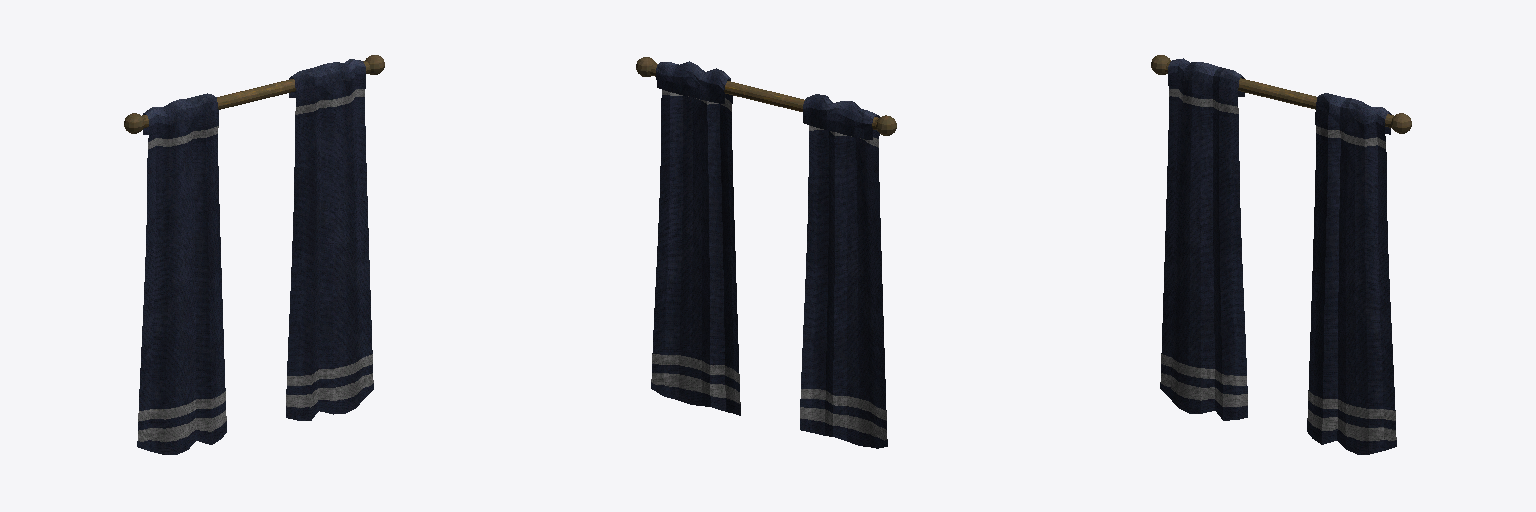
3 renders of one model, left to right at view 1: azimuth 30°, elevation 25°; view 2: azimuth 150°, elevation 25°; view 3: azimuth 330°, elevation 25°, orthographic.
Parts seen in each view (by area): view 1: Model_Curtain_Var1; view 2: Model_Curtain_Var1; view 3: Model_Curtain_Var1.
Boxes of the visible parts, box(x1,y1,x2,y2) form: Model_Curtain_Var1: box(124, 55, 384, 454); Model_Curtain_Var1: box(636, 57, 896, 448); Model_Curtain_Var1: box(1151, 55, 1411, 454).
Size of the model in its own units: 1.64 by 2.1 by 0.1458.
1 materials, 1 textured.